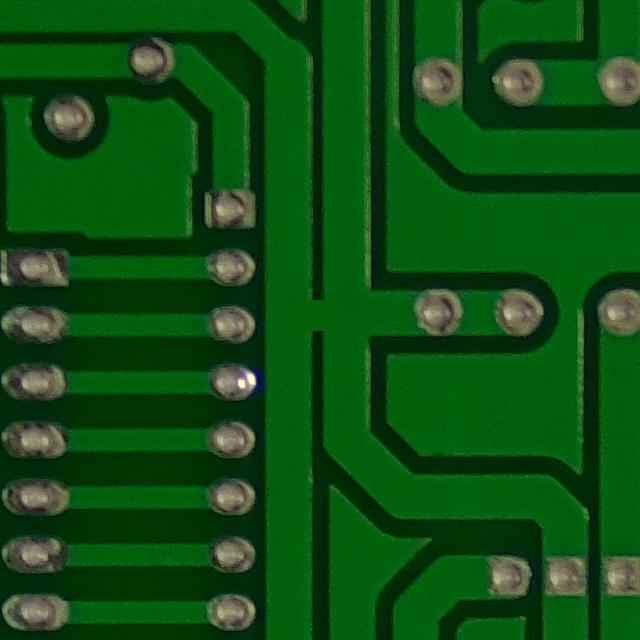short: (262, 273, 378, 368)
